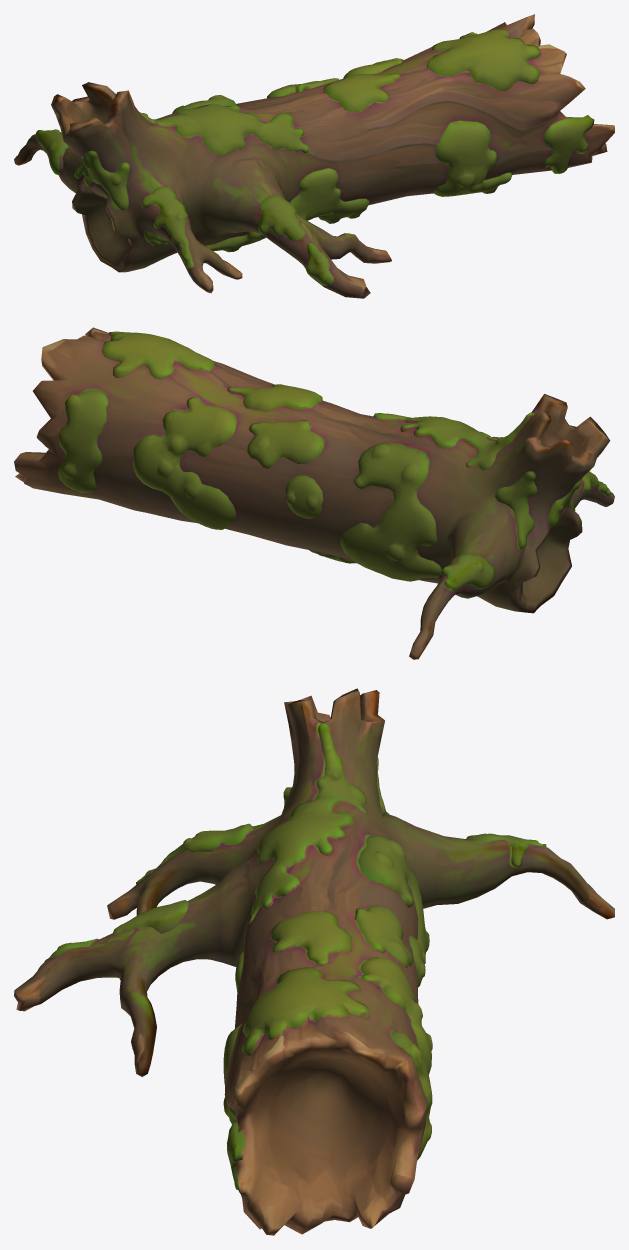
File: log.fbx
3 views of the same model, one above another, from view 1: azimuth 30°, elevation 25°; view 2: azimuth 150°, elevation 25°; view 3: azimuth 270°, elevation 25° (orthographic). The views are drawn at different scales.
Visible parts, largest first — view 1: tripo_4400e344_e3a4_4ae1_a913_a85b49b5e66d; view 2: tripo_4400e344_e3a4_4ae1_a913_a85b49b5e66d; view 3: tripo_4400e344_e3a4_4ae1_a913_a85b49b5e66d.
Boxes of the visible parts, left/top/right/bottom form: tripo_4400e344_e3a4_4ae1_a913_a85b49b5e66d: left=14, top=14, right=614, bottom=298; tripo_4400e344_e3a4_4ae1_a913_a85b49b5e66d: left=14, top=327, right=614, bottom=659; tripo_4400e344_e3a4_4ae1_a913_a85b49b5e66d: left=14, top=688, right=614, bottom=1235.
Size of the model in its own units: 0.9995 by 0.3335 by 0.728.
1 material, 1 textured.
